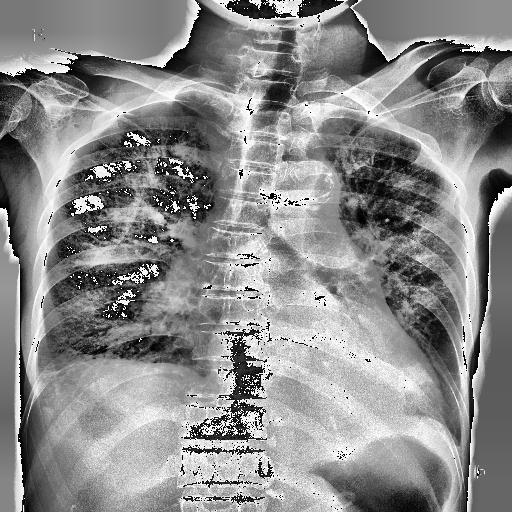0- Aortic enlargement: (272, 156, 342, 226), (272, 158, 340, 216), (270, 157, 340, 213)
10- Pleural effusion: (28, 344, 62, 408), (26, 362, 58, 396)
11- Pleural thickening: (28, 344, 62, 408), (26, 362, 58, 396), (29, 364, 54, 390)
13- Pulmonary fibrosis: (41, 360, 159, 382)
3- Cardiomegaly: (203, 314, 443, 424), (204, 335, 446, 423)
7- Lung Opacity: (144, 251, 206, 329), (41, 360, 159, 382)
9- Other lesion: (342, 234, 382, 298)
